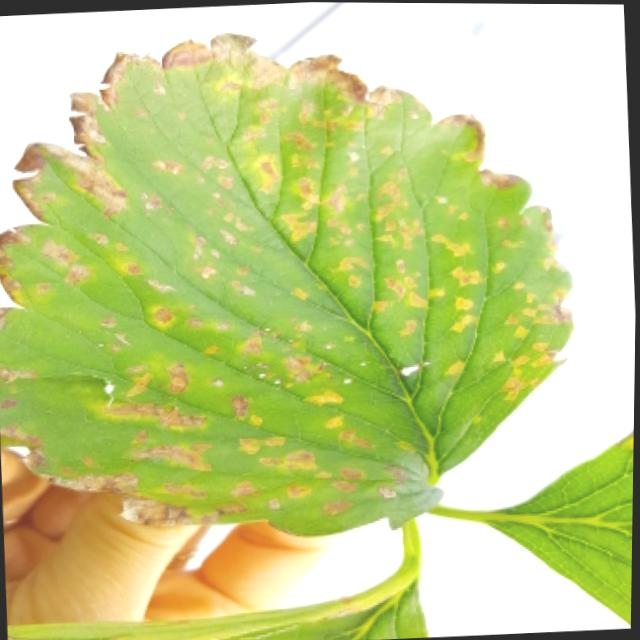Angular Leafspot: (0, 30, 575, 535), (467, 431, 635, 627), (8, 562, 430, 640)
